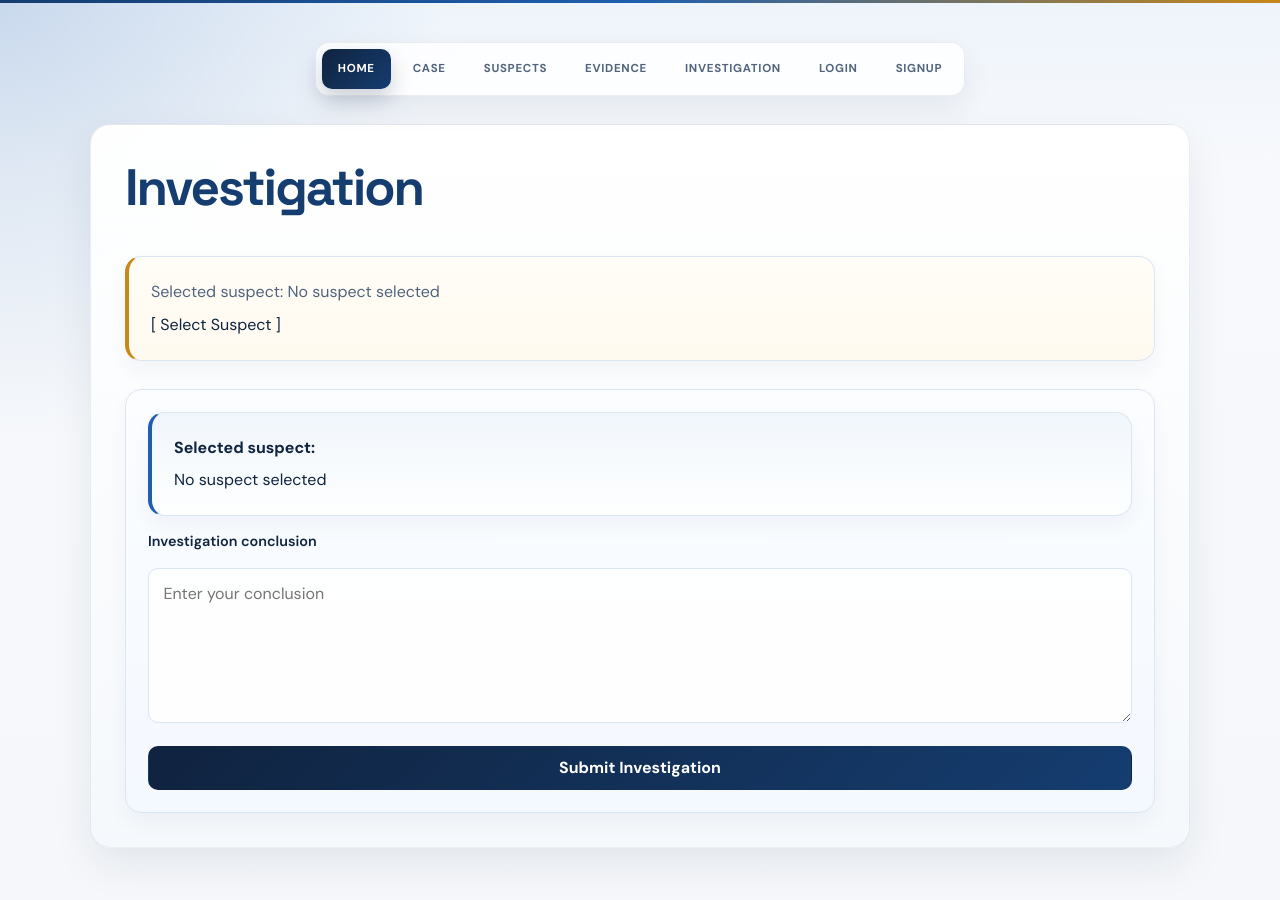
Investigation workflow › submits a valid investigation and displays success confirmation
Step 1. Type "Jamie had access at the time of the incident." into the text box labelled "Investigation conclusion" → point(640, 645), box [148,568,1132,723]
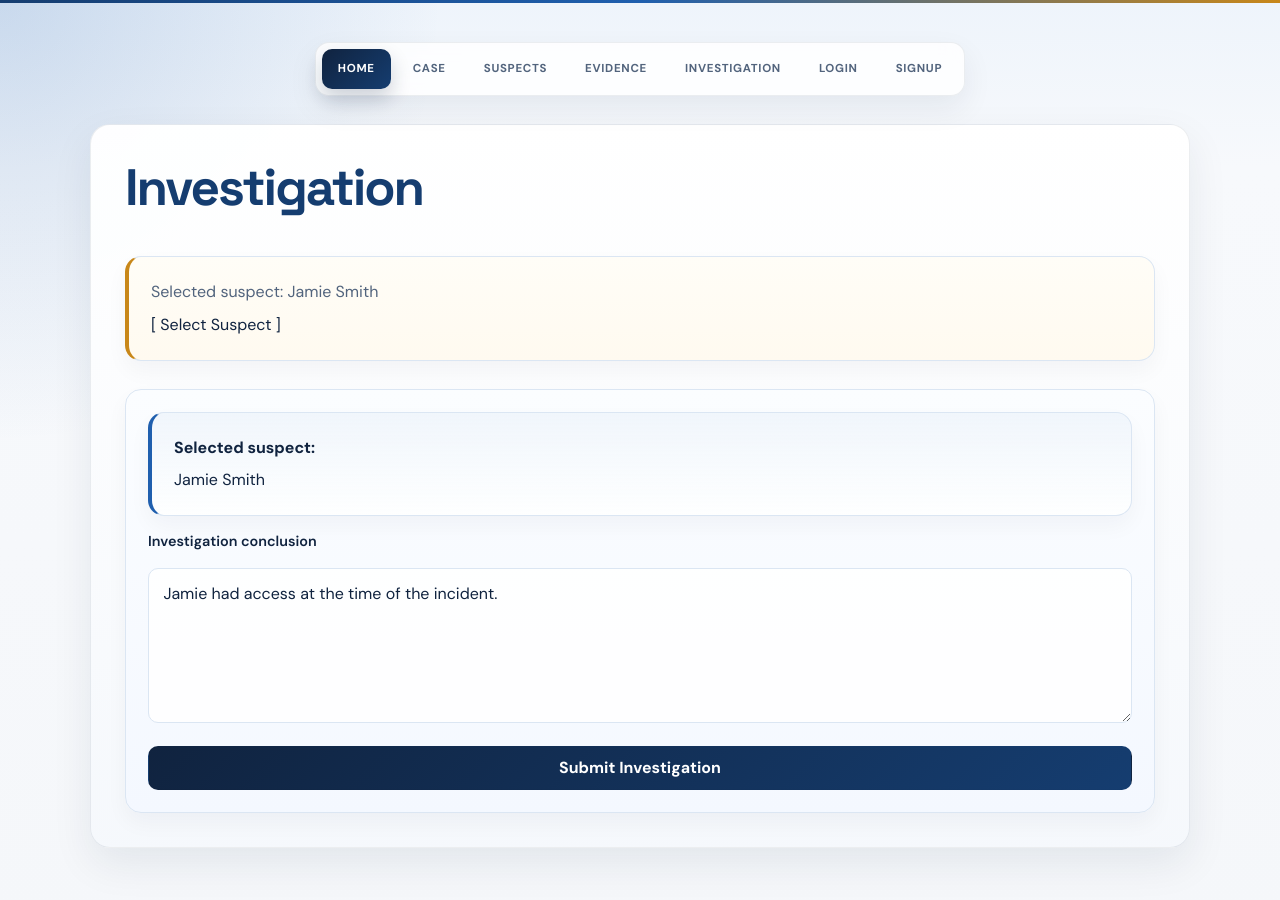
Step 2. Click the button "Submit Investigation" → point(640, 768), box [148,746,1132,790]
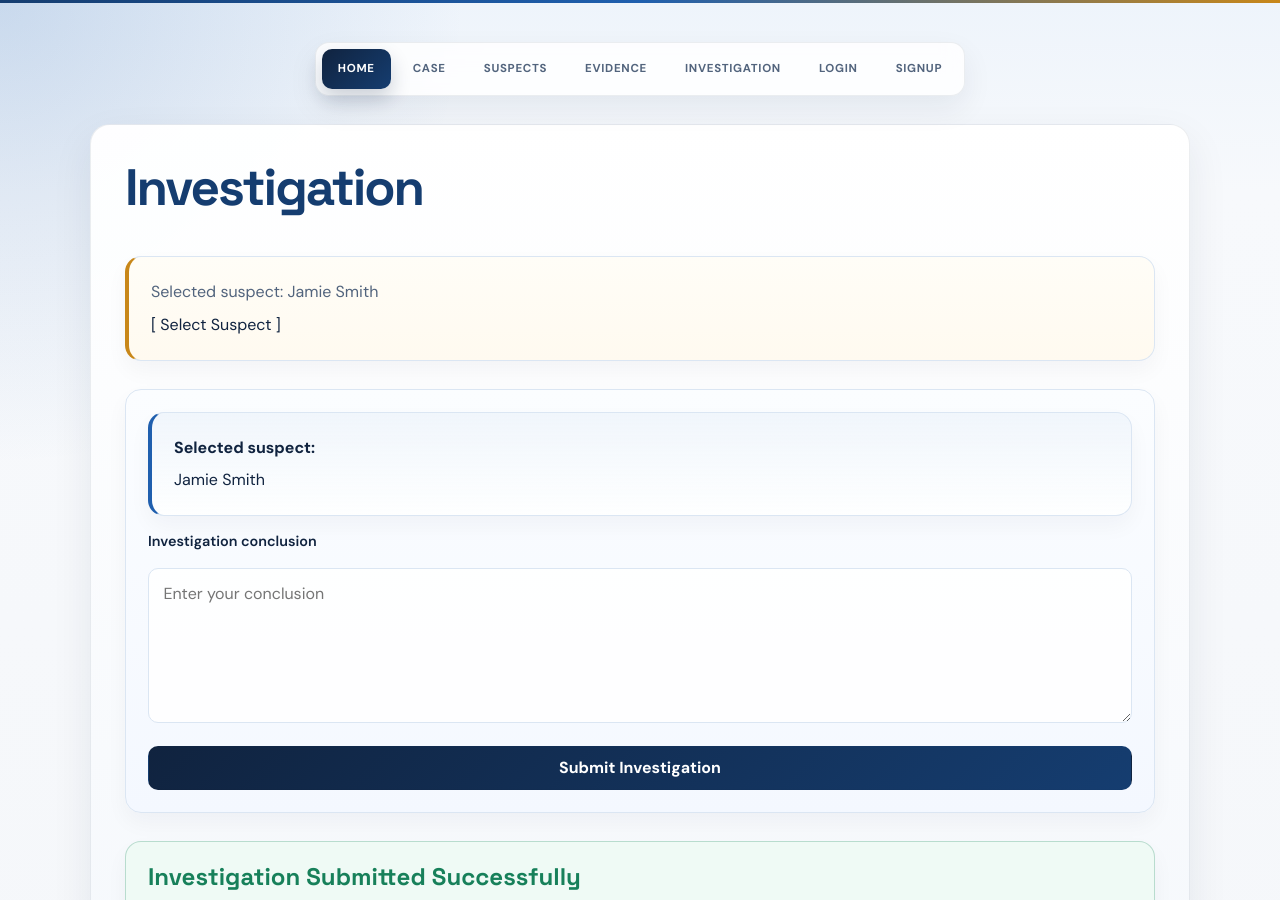
Result: the heading "Investigation Submitted Successfully" is shown at [148,860,581,892]
